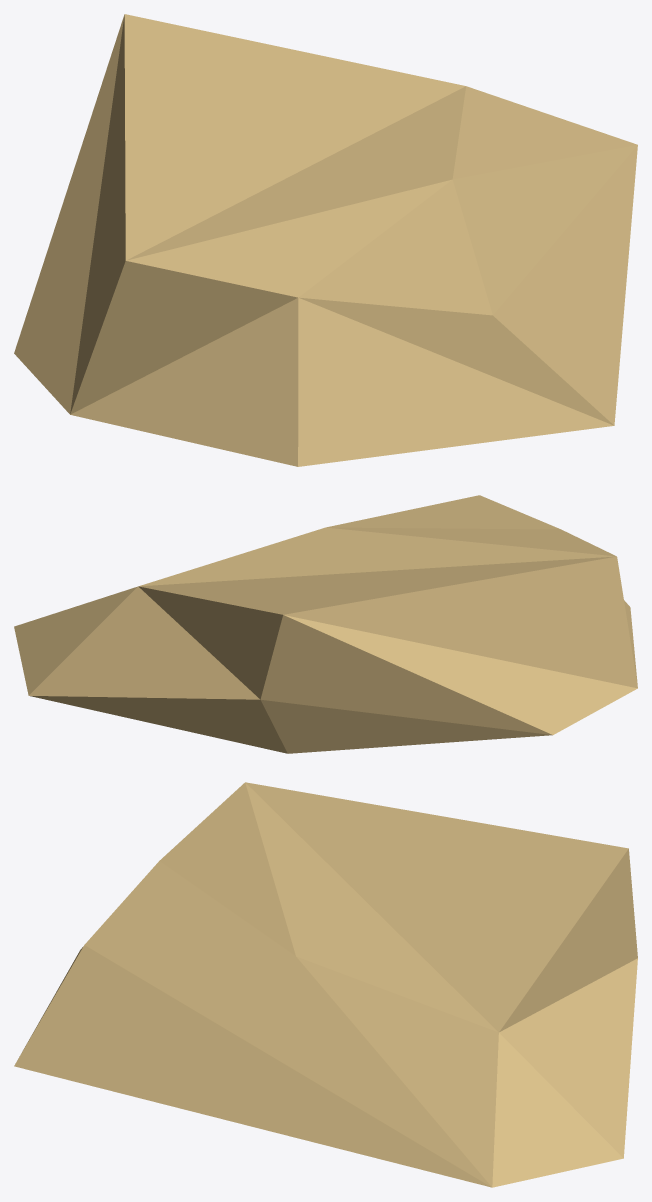
Rendered from Rock_3_low.fbx.
The picture shows the model from 3 angles, top to bottom: view 1: azimuth 30°, elevation 25°; view 2: azimuth 150°, elevation 25°; view 3: azimuth 270°, elevation 25°; orthographic projection. The views are drawn at different scales.
Parts seen in each view (by area): view 1: Stone_3_low; view 2: Stone_3_low; view 3: Stone_3_low.
Part boxes in pixels (left/top/right/bottom): Stone_3_low: left=14, top=14, right=637, bottom=466; Stone_3_low: left=14, top=495, right=637, bottom=753; Stone_3_low: left=14, top=782, right=637, bottom=1187.
Size of the model in its own units: 2.92 by 0.7915 by 2.62.
